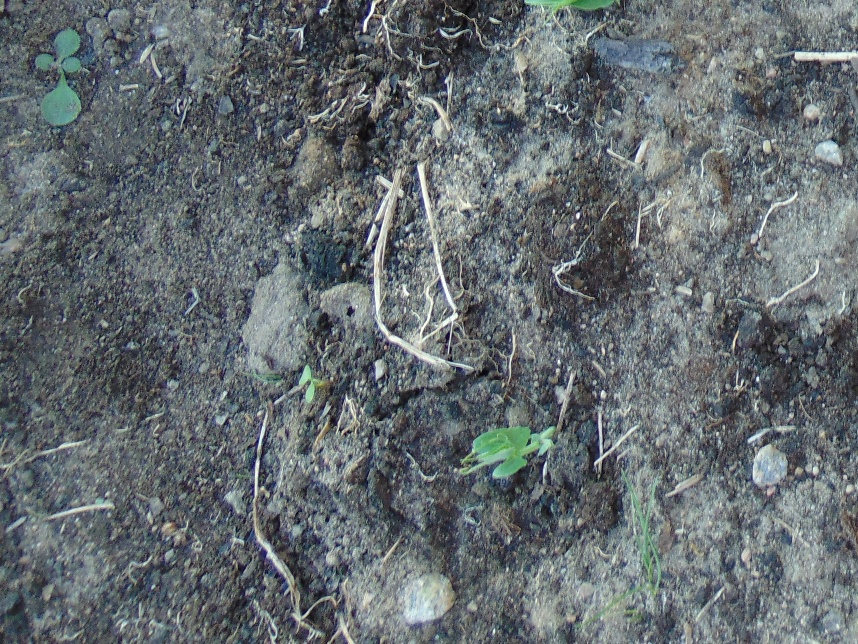crop: (458, 425, 559, 480), (520, 1, 615, 13)
weed: (37, 26, 89, 126), (625, 501, 665, 610), (299, 367, 324, 403)
